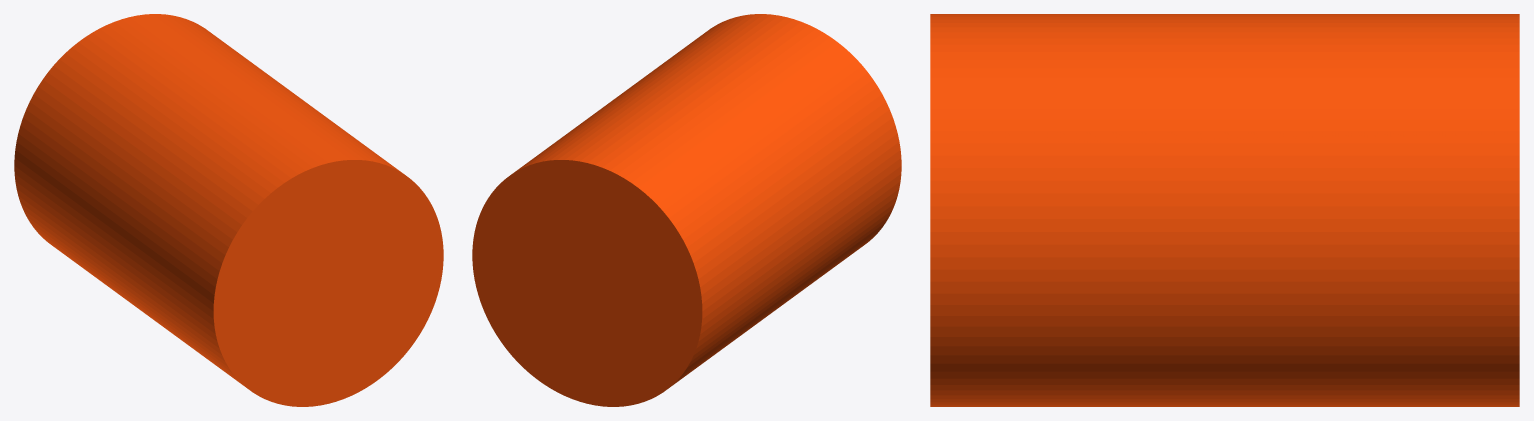
The model's file is right_motor.dae.
The picture shows the model from 3 angles, left to right: view 1: azimuth 30°, elevation 25°; view 2: azimuth 150°, elevation 25°; view 3: azimuth 270°, elevation 25°; orthographic projection. The views are drawn at different scales.
Visible parts, largest first — view 1: right_motor; view 2: right_motor; view 3: right_motor.
Boxes of the visible parts, bbox=[...] form: right_motor: bbox=[14, 14, 443, 406]; right_motor: bbox=[472, 14, 901, 406]; right_motor: bbox=[930, 14, 1519, 406].
Bounding box in the file's own units: 0.012 × 0.018 × 0.012.
